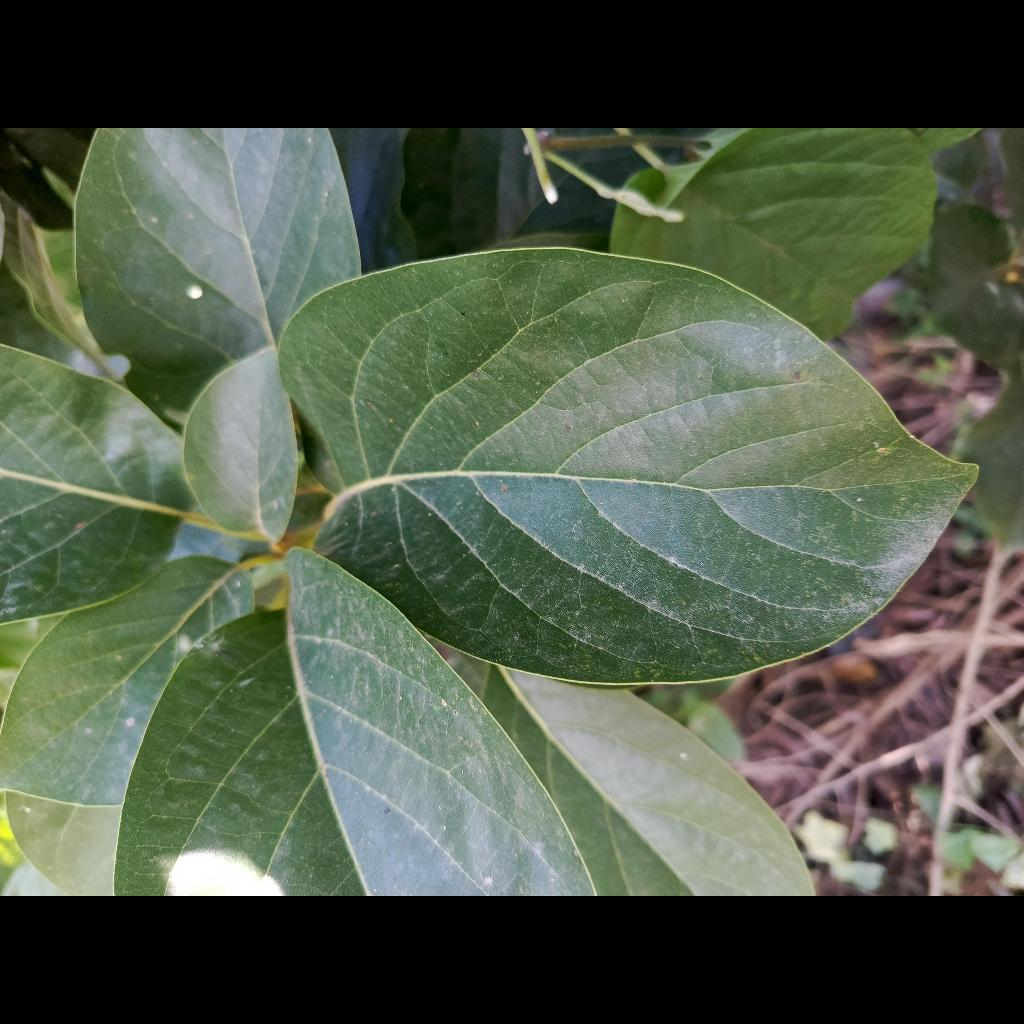Healthy: (283, 249, 974, 683)
